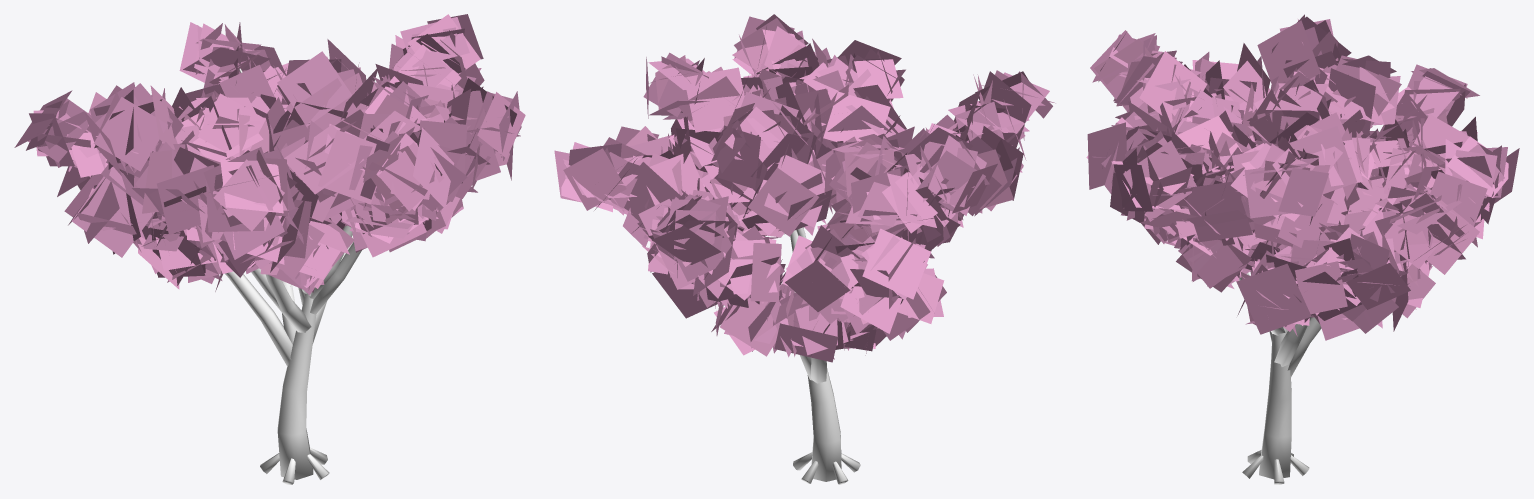
Rendered from SM_Sakura_Spread_LOD1.fbx.
3 views of the same model, side by side, from view 1: azimuth 30°, elevation 25°; view 2: azimuth 150°, elevation 25°; view 3: azimuth 270°, elevation 25° (orthographic). The views are drawn at different scales.
Parts seen in each view (by area): view 1: SM_Sakura_Spread_LOD1; view 2: SM_Sakura_Spread_LOD1; view 3: SM_Sakura_Spread_LOD1.
Part boxes in pixels (x1,y1,x2,y2): SM_Sakura_Spread_LOD1: [14, 14, 525, 484]; SM_Sakura_Spread_LOD1: [554, 14, 1055, 484]; SM_Sakura_Spread_LOD1: [1086, 14, 1519, 484].
Size of what is drawn, in the model's own units: 6.42 by 6.01 by 6.
